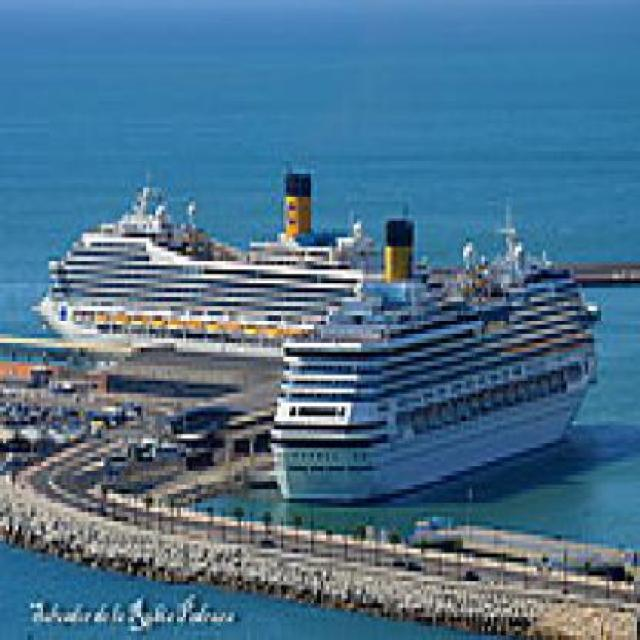cruise: (257, 230, 611, 527), (25, 166, 394, 372)
